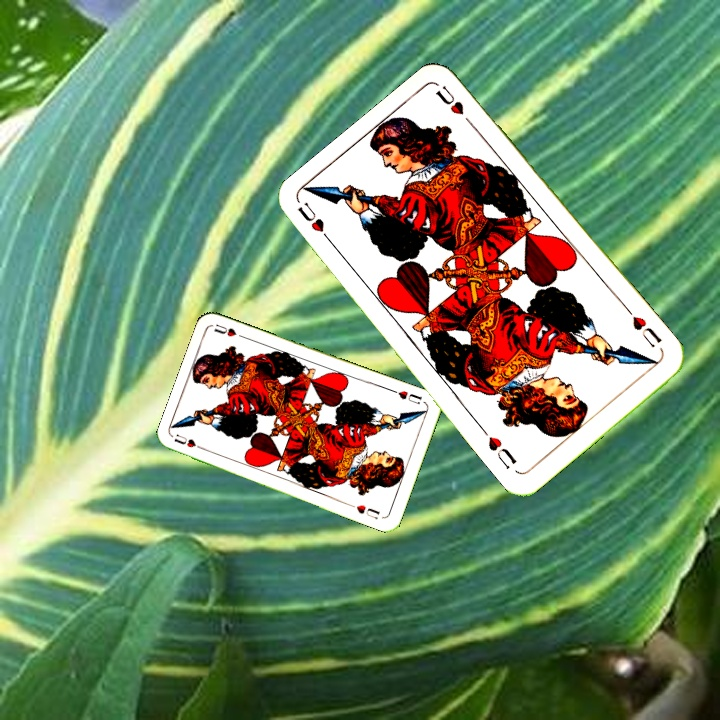HU: (294, 197, 338, 249), (623, 305, 664, 351), (170, 430, 209, 453), (394, 386, 425, 407)
